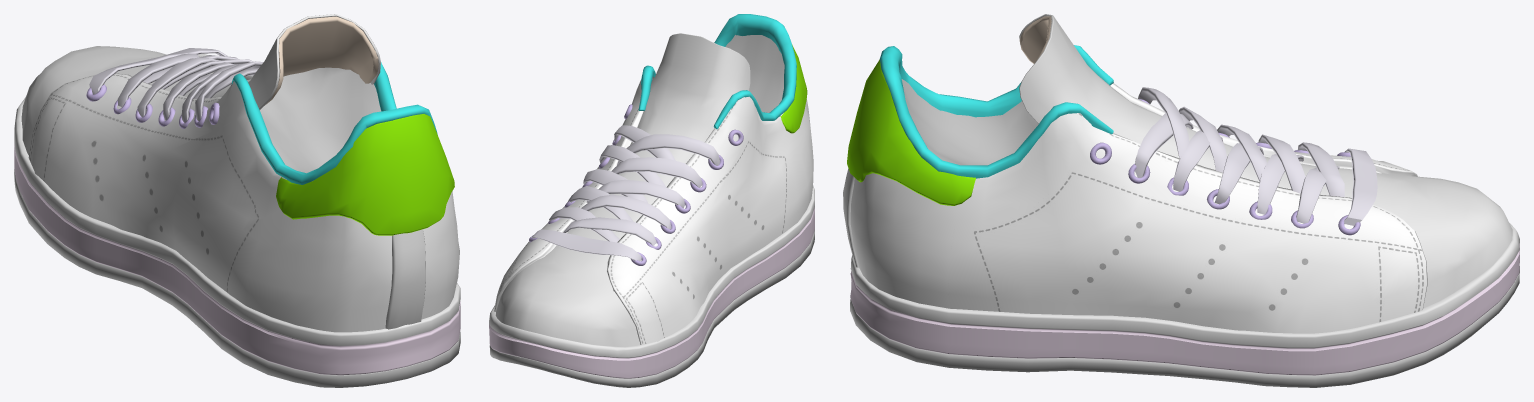
The model's file is Adidas_Stan_Smith.fbx.
3 views of the same model, side by side, from view 1: azimuth 30°, elevation 25°; view 2: azimuth 150°, elevation 25°; view 3: azimuth 270°, elevation 25° (orthographic). The views are drawn at different scales.
Parts seen in each view (by area): view 1: Side_Body, Body, Back_Top, Cover, Lace, Neck, Neck_Border1, Back, Lace_Hole; view 2: Body, Side_Body, Lace, Neck_Border1, Cover, Lace_Hole, Back_Top; view 3: Side_Body, Body, Lace, Back_Top, Neck_Border1, Cover, Lace_Hole, Neck, Back.
Part boxes in pixels (x1,y1,x2,y2): Side_Body: (28, 53, 459, 332); Body: (14, 14, 460, 387); Back_Top: (276, 114, 454, 235); Cover: (260, 67, 381, 173); Lace: (89, 48, 263, 122); Neck: (264, 16, 378, 105); Neck_Border1: (232, 62, 437, 184); Back: (385, 229, 425, 329); Lace_Hole: (86, 55, 220, 128); Body: (489, 33, 814, 387); Side_Body: (494, 79, 813, 344); Lace: (532, 125, 720, 260); Neck_Border1: (638, 14, 796, 129); Cover: (652, 35, 784, 112); Lace_Hole: (529, 104, 743, 265); Back_Top: (780, 44, 807, 133); Side_Body: (850, 83, 1427, 333); Body: (850, 14, 1519, 387); Lace: (1135, 87, 1377, 225); Back_Top: (847, 59, 975, 205); Neck_Border1: (880, 45, 1113, 178); Cover: (901, 79, 1038, 165); Lace_Hole: (1090, 99, 1360, 235); Neck: (1019, 16, 1051, 63); Back: (843, 168, 858, 267).
Bounding box in the file's own units: 0.9192 × 1.19 × 2.34.
11 materials, 1 textured.
